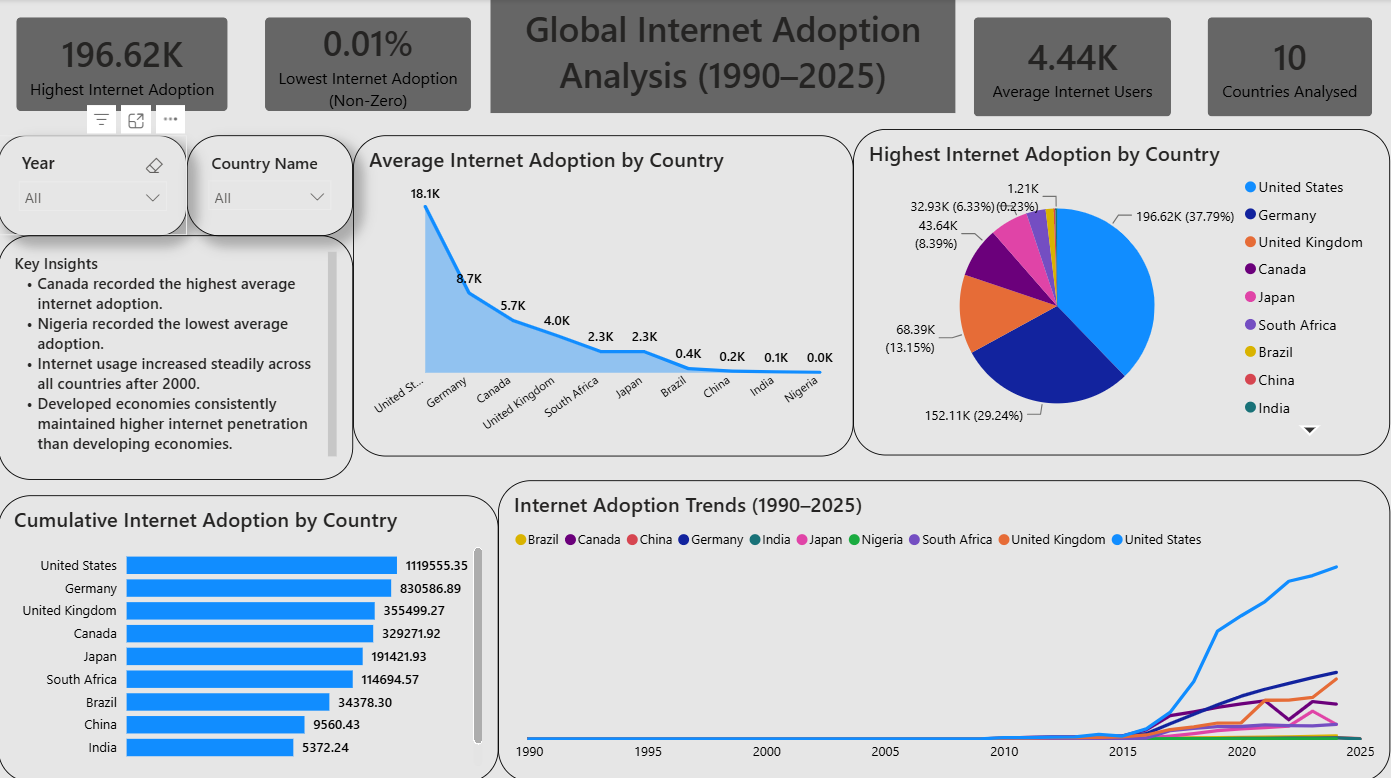

Layout of this report page (visuals, bound fields, positions):
{"tool":"powerbi","page":{"name":"Page 1","canvas":[1280,720],"ordinal":0},"visuals":[{"type":"cardVisual","fields":{"Data":["Cleaned_Internet_Indicators.Lowest Internet Adoption (Non-Zero)"]},"box":[228.8,0,223.8,120],"z":0},{"type":"clusteredBarChart","title":"Cumulative Internet Adoption by Country","fields":{"Category":["Cleaned_Internet_Indicators.Country Name"],"Y":["Sum(Cleaned_Internet_Indicators.Value)"]},"box":[0,456.2,460,263.8],"z":1000},{"type":"lineChart","title":"Internet Adoption Trends (1990–2025)","fields":{"Y":["Cleaned_Internet_Indicators.Average Internet Users"],"Category":["Cleaned_Internet_Indicators.Year"],"Series":["Cleaned_Internet_Indicators.Country Name"]},"box":[460,442.5,820,277.5],"z":2000},{"type":"cardVisual","fields":{"Data":["Cleaned_Internet_Indicators.Highest Internet Adoption"]},"box":[0,0,228.8,120],"z":3000},{"type":"cardVisual","fields":{"Data":["Cleaned_Internet_Indicators.Average Internet Users"]},"box":[880,0,215,125],"z":4000},{"type":"cardVisual","fields":{"Data":["Cleaned_Internet_Indicators.Countries Analysed"]},"box":[1095,0,185,125],"z":5000},{"type":"areaChart","title":"Average Internet Adoption Rate by Country","fields":{"Category":["Cleaned_Internet_Indicators.Country Name"],"Y":["Cleaned_Internet_Indicators.Average Internet Users"]},"box":[326.2,125,460,295],"z":6000},{"type":"pieChart","title":"Share of Total Internet Adoption","fields":{"Category":["Cleaned_Internet_Indicators.Country Name"],"Y":["Cleaned_Internet_Indicators.Highest Internet Adoption"]},"box":[786.2,120,493.8,300],"z":7000},{"type":"slicer","fields":{"Values":["Cleaned_Internet_Indicators.Country Name"]},"box":[173.8,125,152.5,92.5],"z":8000},{"type":"slicer","fields":{"Values":["Cleaned_Internet_Indicators.Year"]},"box":[0,125,173.8,92.5],"z":9000},{"type":"textbox","box":[0,217.5,326.2,225],"z":10000},{"type":"textbox","box":[452.5,0,427.5,105],"z":11000}]}

Visuals, with their boxes in screenshot pixels (x1, y1, x2, y2):
cardVisual - Cleaned_Internet_Indicators.Lowest Internet Adoption (Non-Zero): bbox=(251, 0, 490, 103)
"Cumulative Internet Adoption by Country" clusteredBarChart: bbox=(7, 461, 498, 743)
"Internet Adoption Trends (1990–2025)" lineChart: bbox=(498, 447, 1373, 743)
cardVisual - Cleaned_Internet_Indicators.Highest Internet Adoption: bbox=(7, 0, 251, 103)
cardVisual - Cleaned_Internet_Indicators.Average Internet Users: bbox=(946, 0, 1175, 108)
cardVisual - Cleaned_Internet_Indicators.Countries Analysed: bbox=(1175, 0, 1373, 108)
"Average Internet Adoption Rate by Country" areaChart: bbox=(355, 108, 846, 423)
"Share of Total Internet Adoption" pieChart: bbox=(846, 103, 1373, 423)
slicer - Cleaned_Internet_Indicators.Country Name: bbox=(193, 108, 355, 207)
slicer - Cleaned_Internet_Indicators.Year: bbox=(7, 108, 193, 207)
textbox: bbox=(7, 207, 355, 447)
textbox: bbox=(490, 0, 946, 87)
